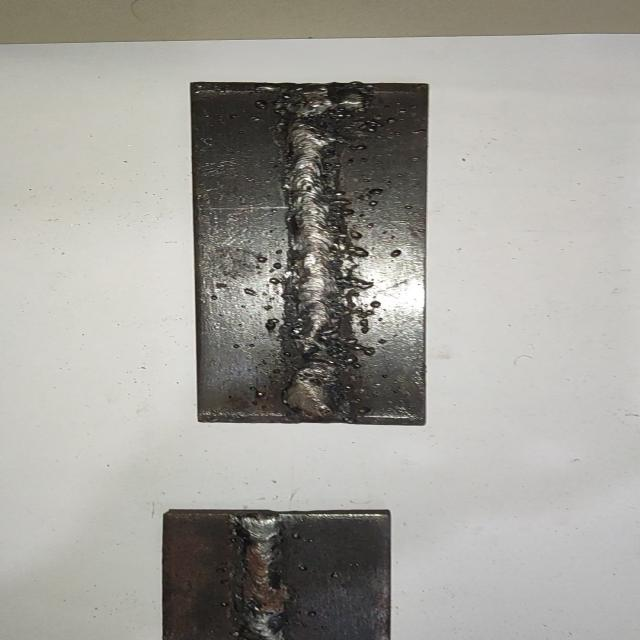Bad Weld: (276, 90, 347, 417)
Defect: (264, 313, 367, 385), (264, 86, 376, 144)
Good Weld: (236, 515, 288, 640)
